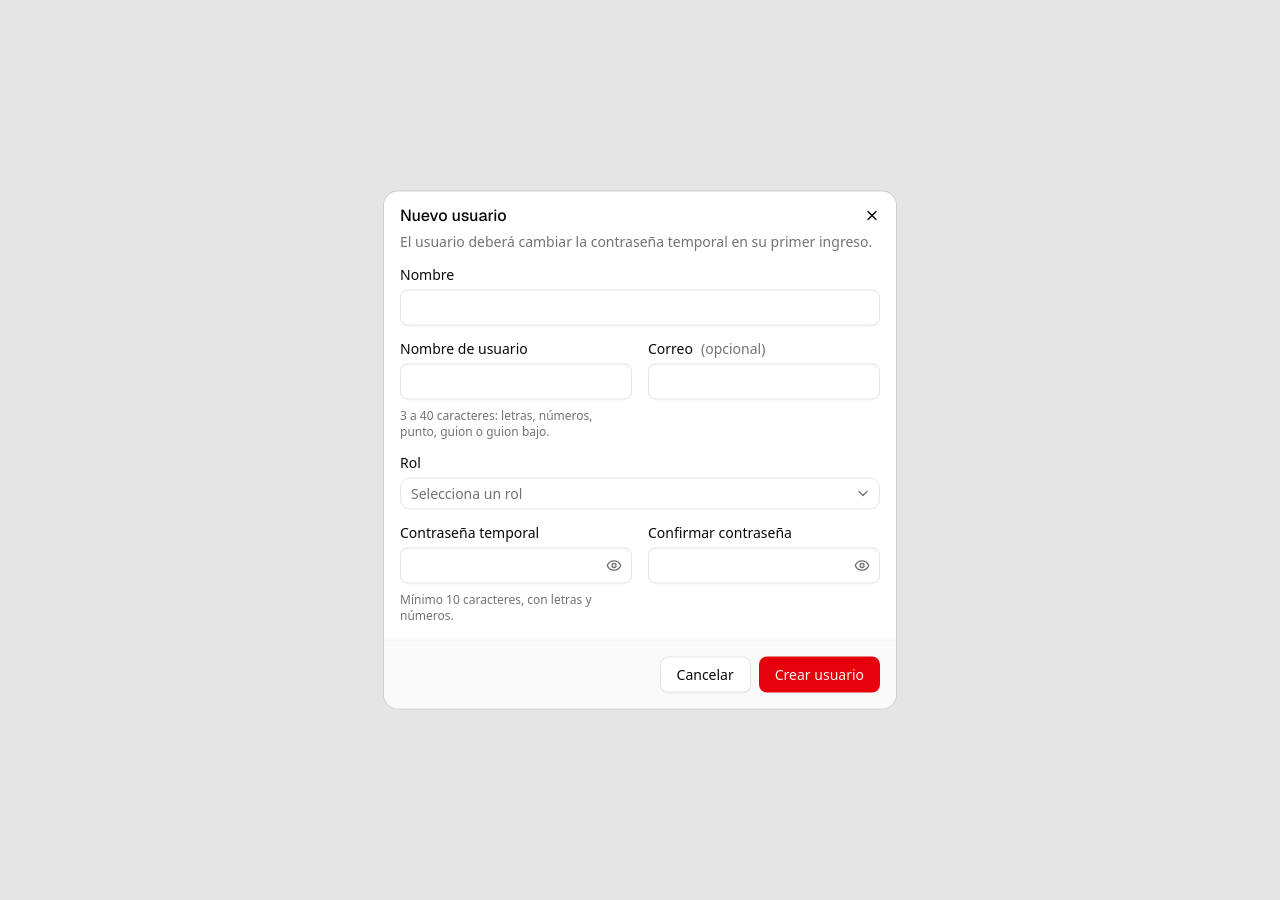
Test case: UserFormDialog (US2, FR-008, FR-009, RN-013) › solo ofrece roles activos (US4 escenario 3)
Click the dropdown labelled "rol": x=467, y=493 [400, 478, 880, 510]
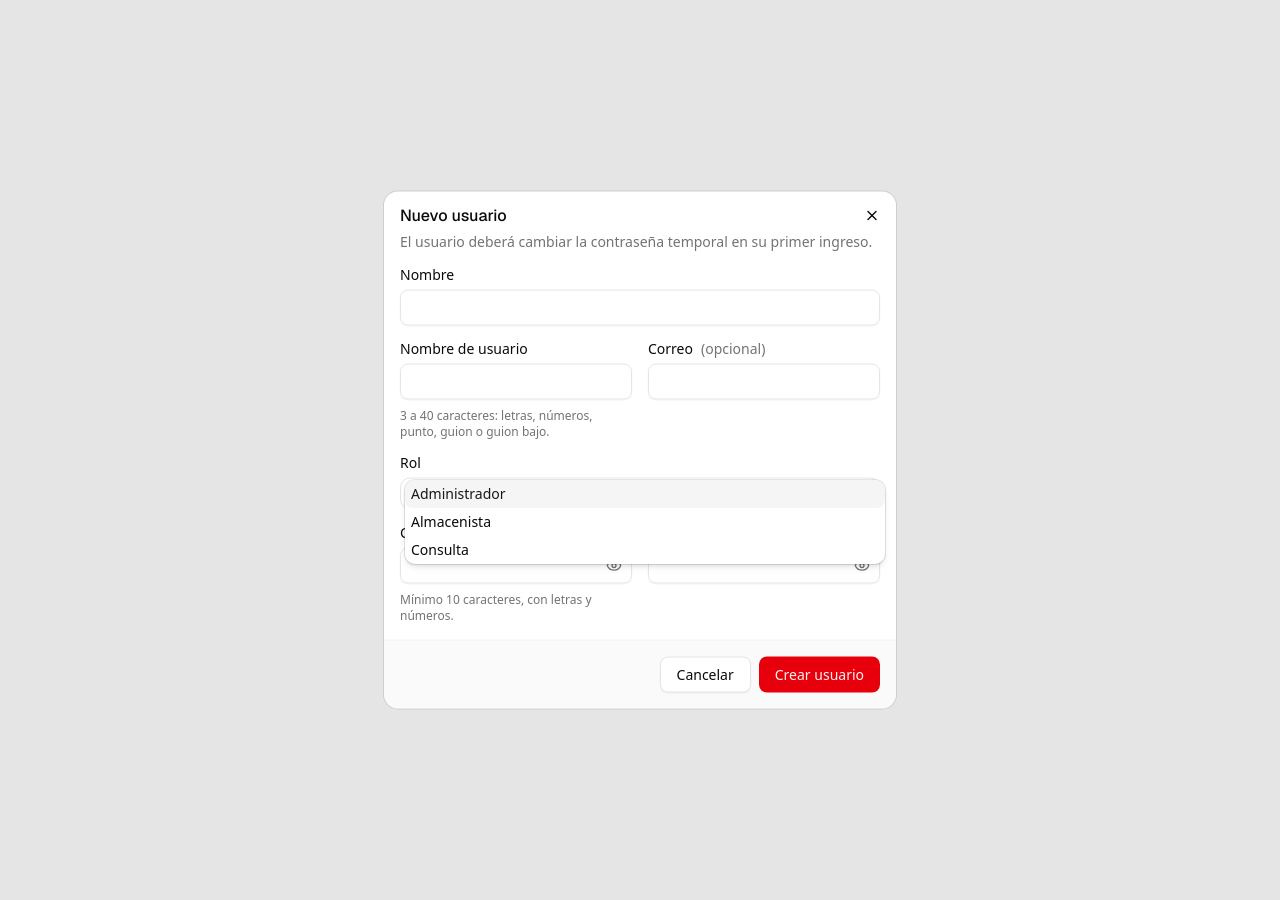
Check: the option "Consulta" is shown, box [411, 540, 469, 558]
